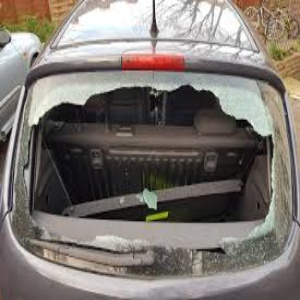rear_windshield_glass: (29, 79, 279, 257)
